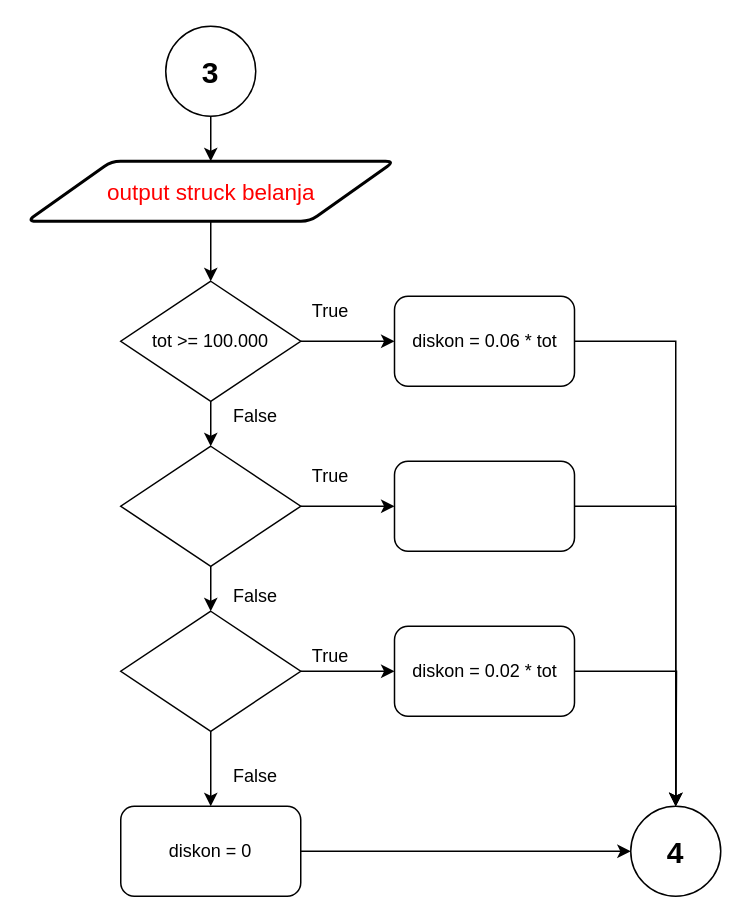
Some shapes in this 747 by 923 pixel diagram are drawn without their labels. The centre of each missing label's shape, as x and y in pixels:
diskon = 0.04 * tot: the point at 483,505
tot >= 25.000: the point at 210,670
tot >= 50.000: the point at 210,505
